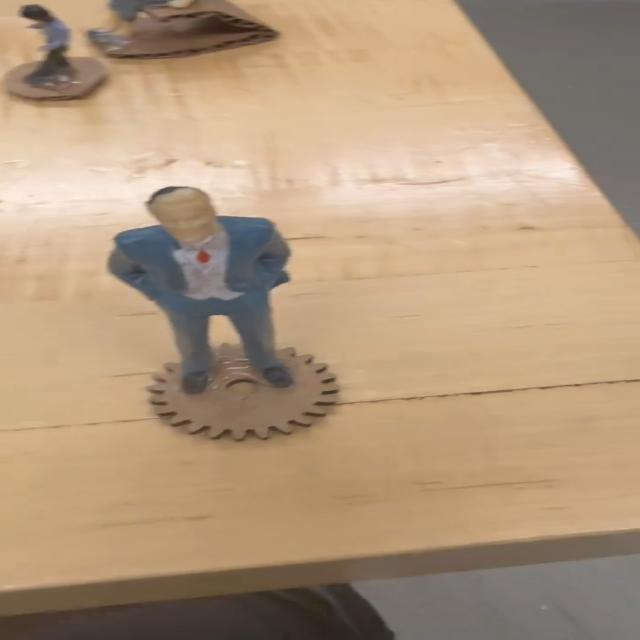Authorized: (103, 188, 304, 406)
